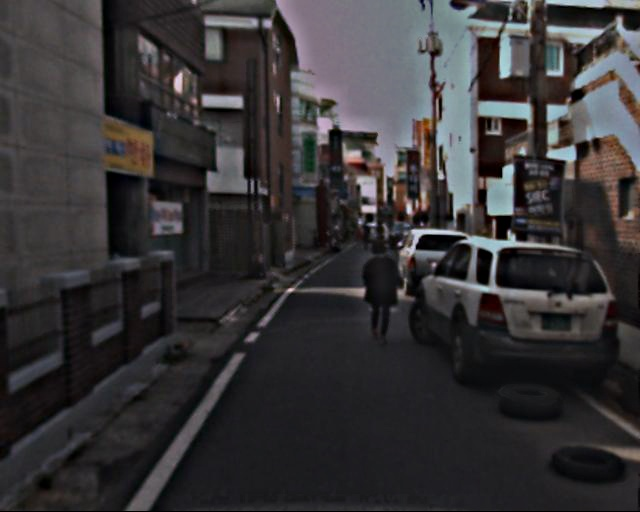person: (359, 237, 402, 341), (356, 219, 388, 249)
